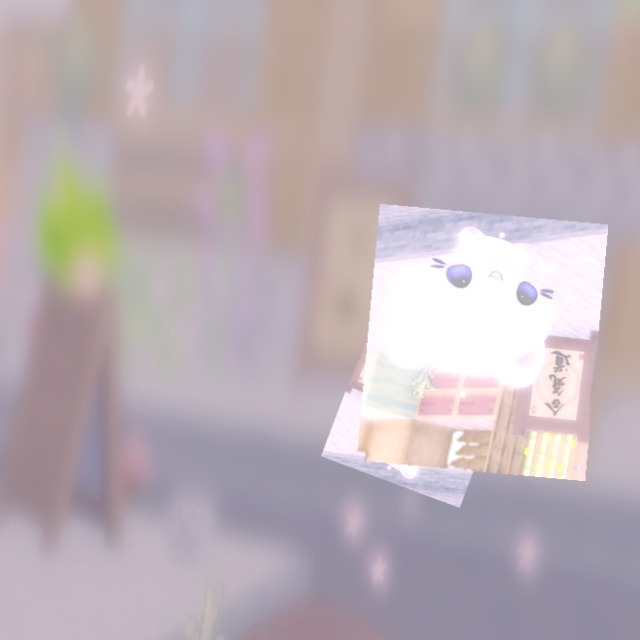urso_branco: (356, 203, 609, 482), (321, 301, 518, 508)
